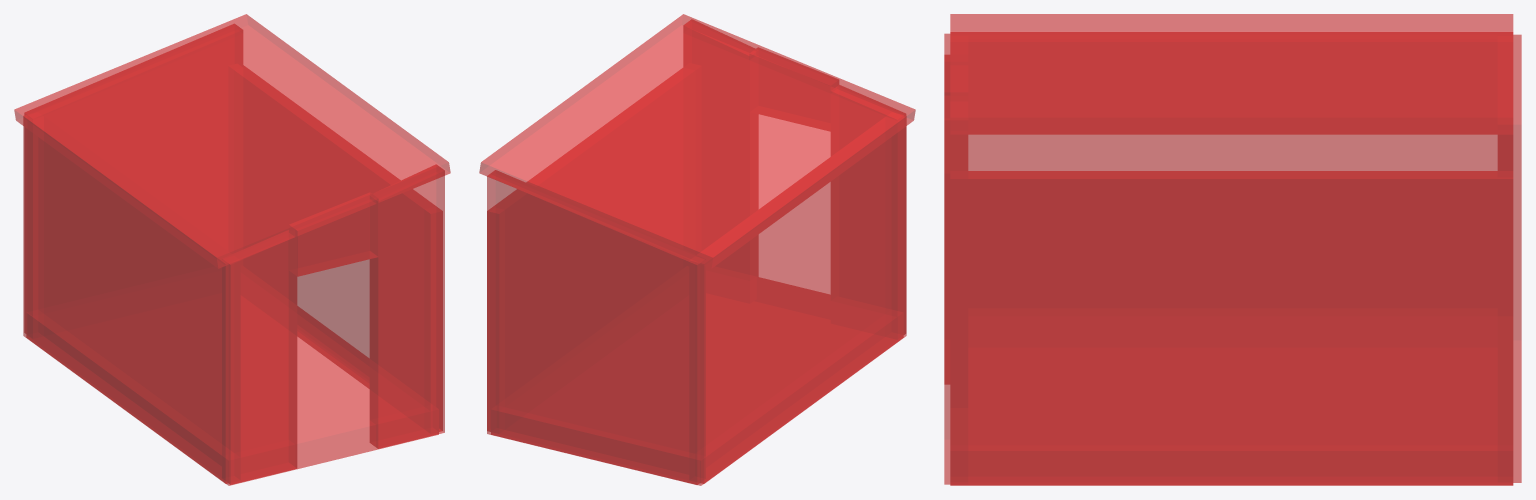
File: SM_Bld_SmallBuilding_02_C_Collision.fbx
3 renders of one model, left to right at view 1: azimuth 30°, elevation 25°; view 2: azimuth 150°, elevation 25°; view 3: azimuth 270°, elevation 25°, orthographic. The views are drawn at different scales.
Parts seen in each view (by area): view 1: SM_Bld_SmallBuilding_02_C_Collision; view 2: SM_Bld_SmallBuilding_02_C_Collision; view 3: SM_Bld_SmallBuilding_02_C_Collision.
Boxes of the visible parts, bbox=[...] form: SM_Bld_SmallBuilding_02_C_Collision: bbox=[14, 14, 450, 485]; SM_Bld_SmallBuilding_02_C_Collision: bbox=[479, 14, 915, 485]; SM_Bld_SmallBuilding_02_C_Collision: bbox=[944, 14, 1521, 485].
Bounding box in the file's own units: 329 × 362 × 505.
